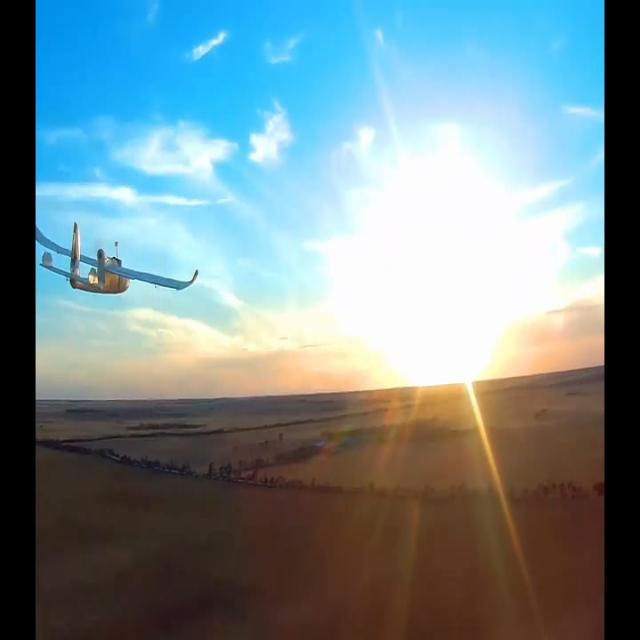iha: (0, 250, 136, 268)
